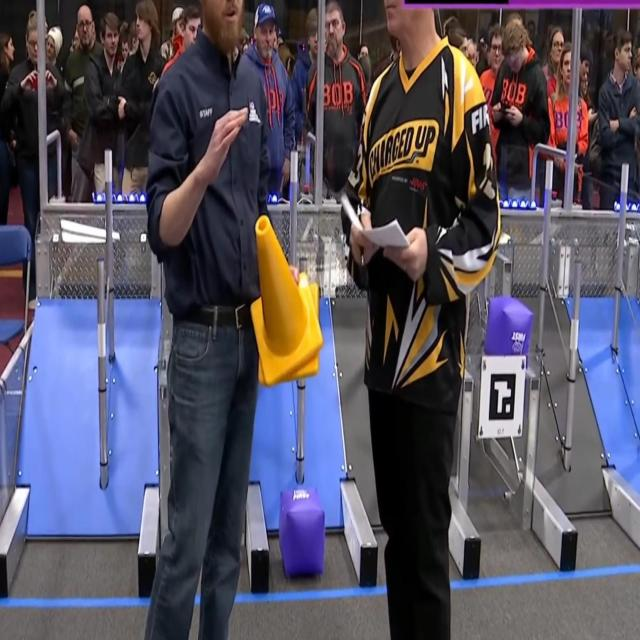frc_cone: (246, 218, 323, 391)
frc_cube: (279, 486, 326, 577), (485, 294, 531, 362)
